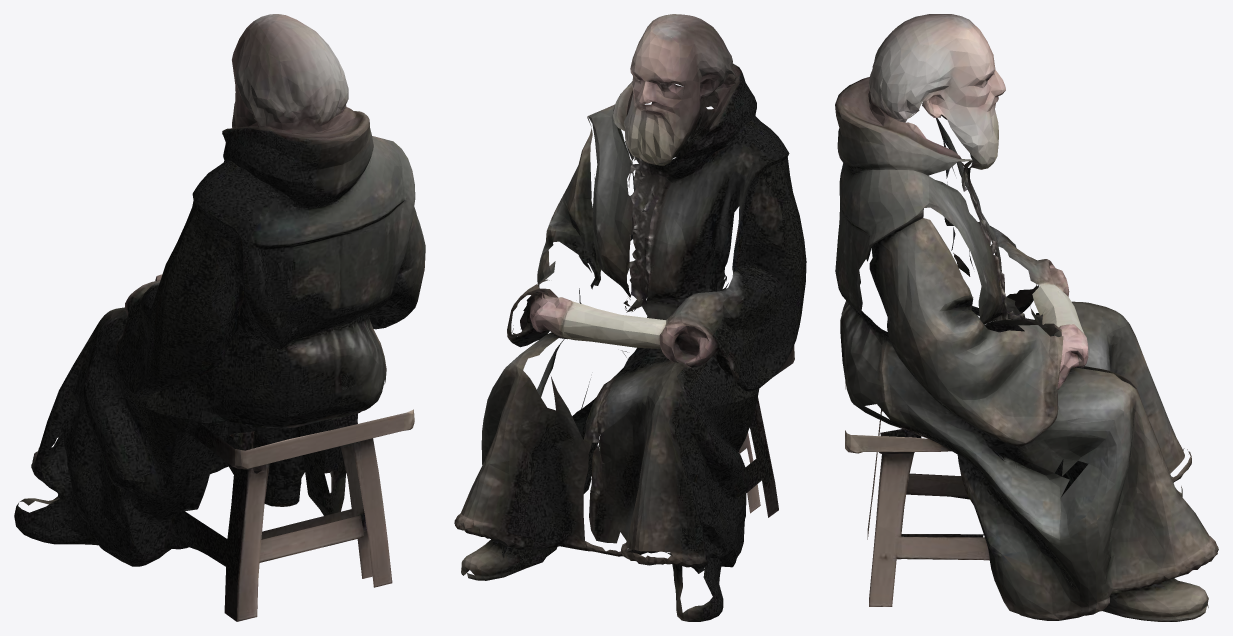
The model's file is council_chaplain.glb.
3 views of the same model, side by side, from view 1: azimuth 30°, elevation 25°; view 2: azimuth 150°, elevation 25°; view 3: azimuth 270°, elevation 25° (orthographic). The views are drawn at different scales.
Parts seen in each view (by area): view 1: geometry_0; view 2: geometry_0; view 3: geometry_0.
Boxes of the visible parts, x1,y1,x2,y2 form: geometry_0: (14, 14, 425, 621); geometry_0: (454, 14, 806, 621); geometry_0: (835, 14, 1218, 621).
Size of the model in its own units: 0.7155 by 1.3 by 0.8207.
1 material, 1 textured.
